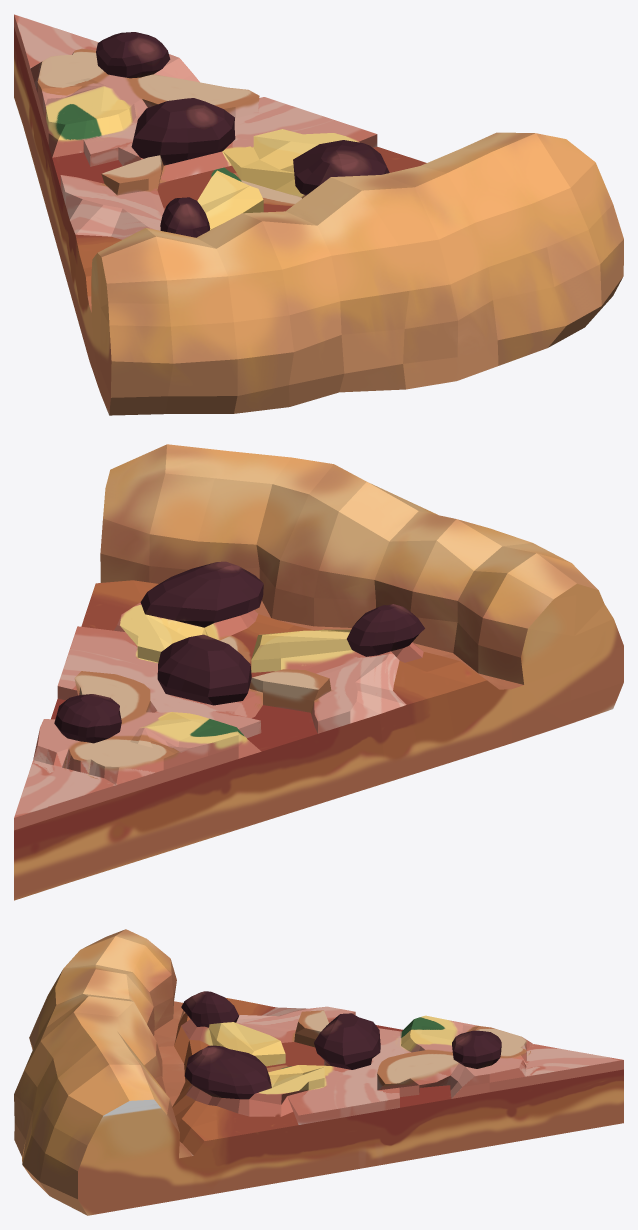
The model's file is Pizza_P3.fbx.
3 renders of one model, top to bottom at view 1: azimuth 30°, elevation 25°; view 2: azimuth 150°, elevation 25°; view 3: azimuth 270°, elevation 25°, orthographic. The views are drawn at different scales.
Parts seen in each view (by area): view 1: Cylinder.003; view 2: Cylinder.003; view 3: Cylinder.003.
Part boxes in pixels (x1=…): Cylinder.003: x1=14, y1=14, x2=623, y2=415; Cylinder.003: x1=14, y1=444, x2=623, y2=900; Cylinder.003: x1=14, y1=929, x2=623, y2=1215.
Size of the model in its own units: 118 by 37.47 by 161.
Materials: 1 (1 with a texture image).
